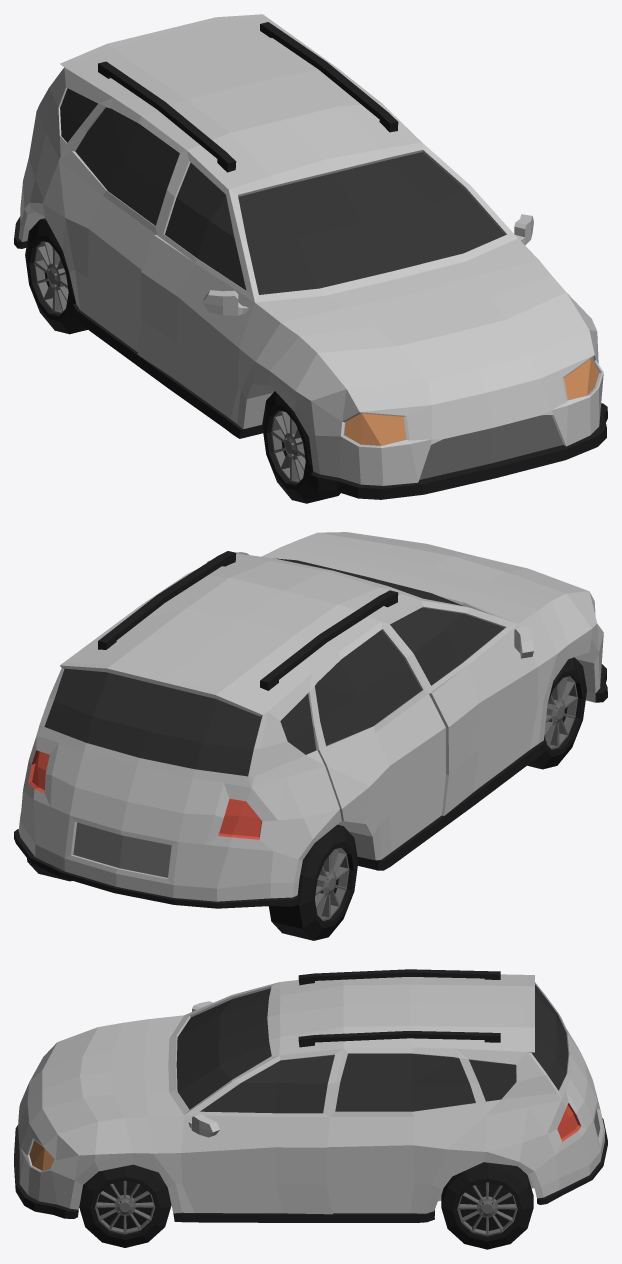
The model's file is car_suv.glb.
3 renders of one model, top to bottom at view 1: azimuth 30°, elevation 25°; view 2: azimuth 150°, elevation 25°; view 3: azimuth 270°, elevation 25°, orthographic. The views are drawn at different scales.
Visible parts, largest first — view 1: SUV_Cube; view 2: SUV_Cube; view 3: SUV_Cube.
Boxes of the visible parts, <box> form: SUV_Cube: <box>14,14,607,503</box>; SUV_Cube: <box>14,532,607,940</box>; SUV_Cube: <box>14,969,607,1249</box>.
Size of the model in its own units: 2.11 by 1.53 by 4.21.
Materials: 1 (1 with a texture image).
